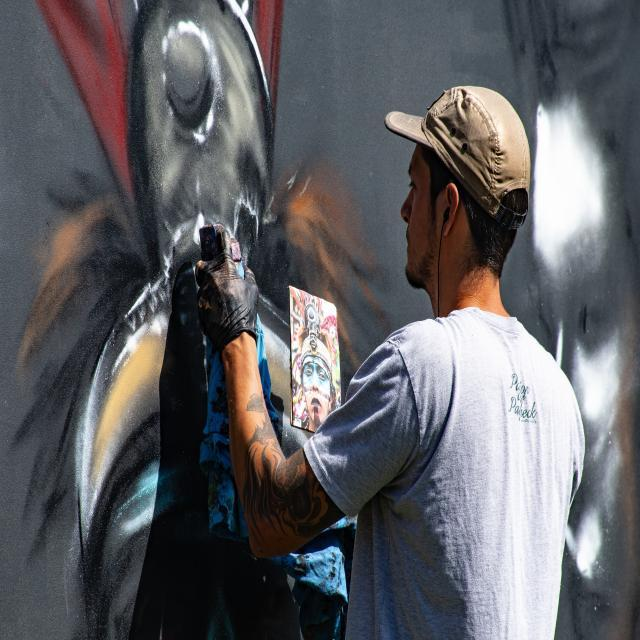-: (13, 0, 387, 640), (533, 0, 640, 640)
